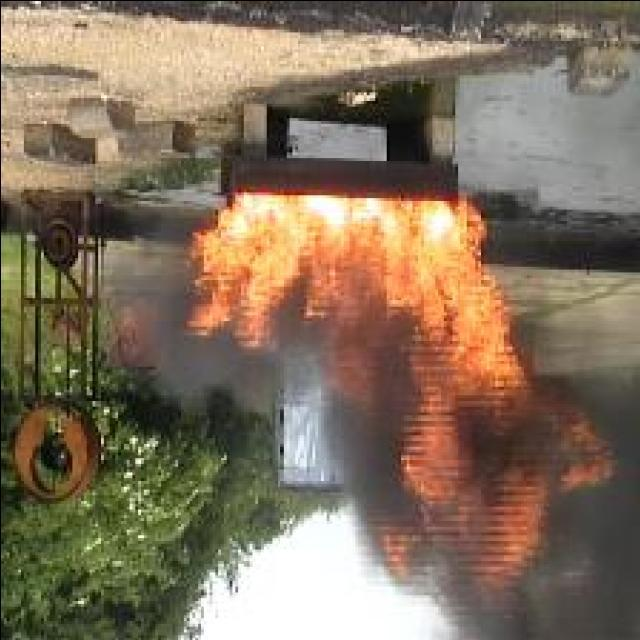Fire: (189, 191, 617, 606)
